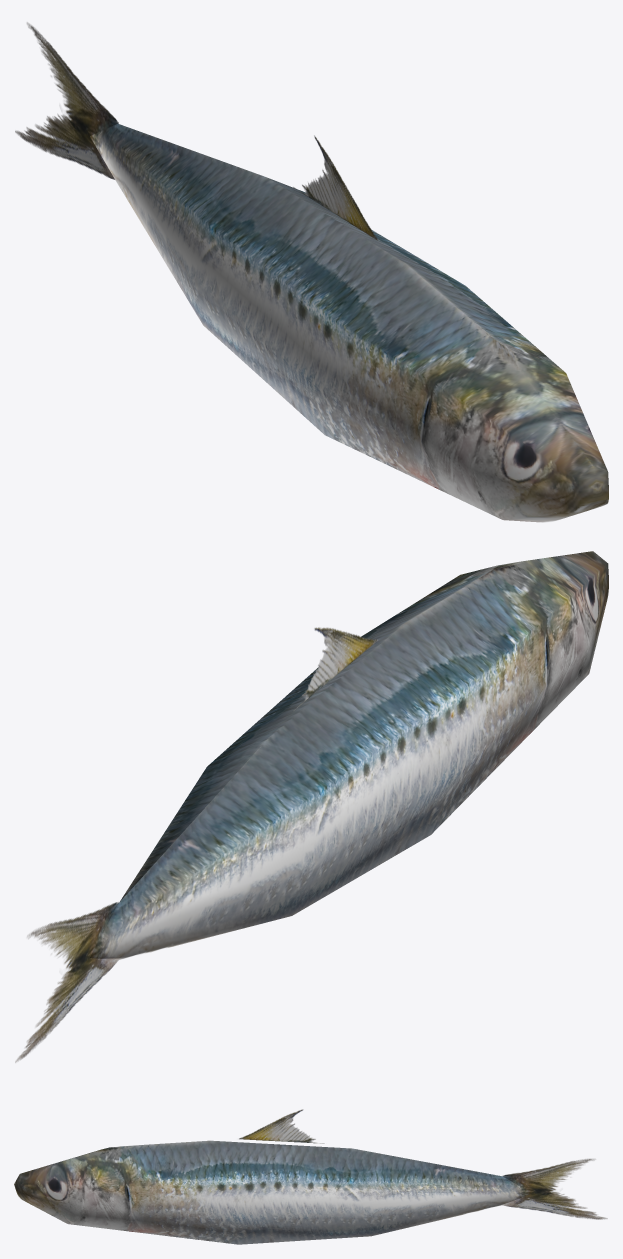
The model's file is boidModel.glb.
The picture shows the model from 3 angles, top to bottom: view 1: azimuth 30°, elevation 25°; view 2: azimuth 150°, elevation 25°; view 3: azimuth 270°, elevation 25°; orthographic projection. The views are drawn at different scales.
Visible parts, largest first — view 1: Cube; view 2: Cube; view 3: Cube.
Boxes of the visible parts, x1,y1,x2,y2 form: Cube: (15, 22, 608, 522); Cube: (15, 551, 608, 1062); Cube: (14, 1109, 607, 1244).
Size of the model in its own units: 0.0688 by 0.1204 by 0.4854.
Materials: 1 (1 with a texture image).
